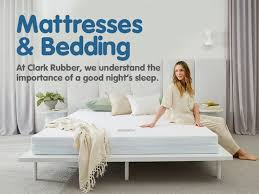bed-matress: (32, 105, 220, 156)
